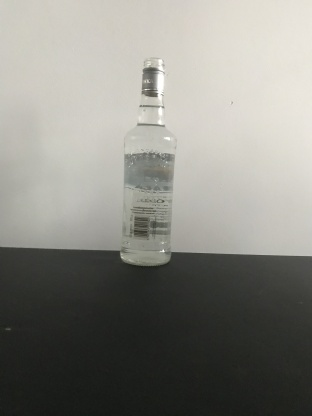nakretka: (139, 57, 166, 97)
